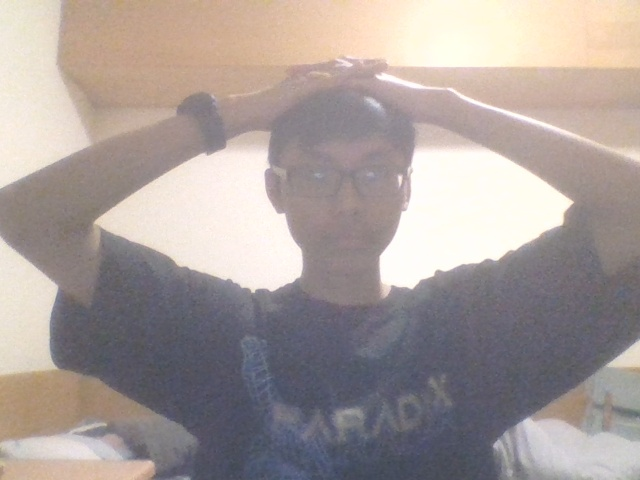human: (1, 55, 640, 480)
